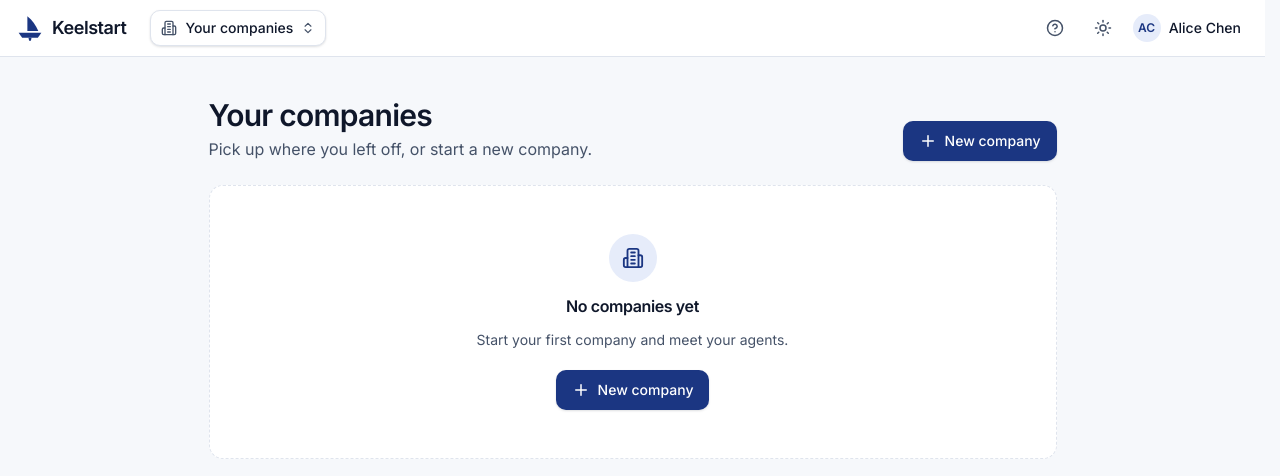
it: banners and help (ADR-0035, ADR-0038) › shows only the help link without a support email
The width and height of the screenshot is (1280, 476).
What coordinates should you click on to do the following:
click the button named "Help"
I would click on:
 (1055, 28)
Its box is [1035,8,1075,48].
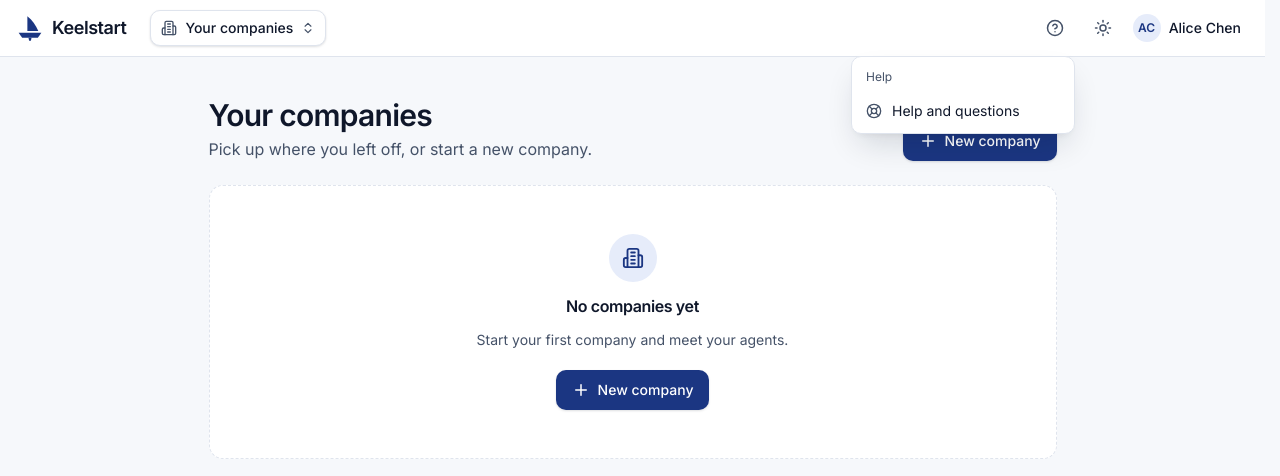
Expected: the menu item "Help and questions" is shown, [866,102,1020,119]
